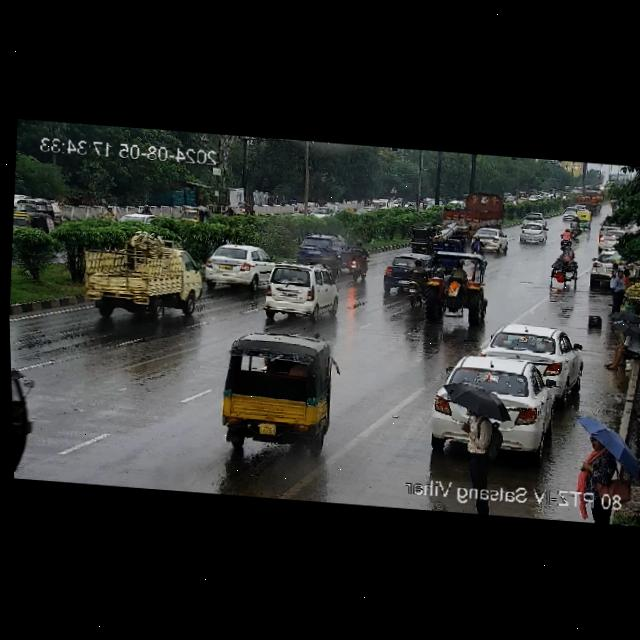car: (209, 329, 332, 451), (444, 354, 560, 422), (484, 321, 584, 384), (254, 257, 341, 321), (421, 249, 490, 322), (10, 353, 48, 479), (200, 240, 273, 292), (544, 240, 582, 289), (298, 230, 351, 262), (379, 247, 413, 293), (11, 206, 57, 235), (433, 224, 467, 253), (473, 226, 508, 251), (408, 221, 436, 252), (589, 250, 611, 286), (516, 222, 549, 244), (183, 202, 213, 223), (595, 228, 624, 248), (522, 210, 547, 224), (576, 208, 593, 228), (560, 205, 577, 220), (595, 222, 613, 236)
motorcycle: (404, 260, 429, 306), (345, 237, 371, 281), (469, 232, 485, 260), (559, 228, 574, 248), (569, 216, 579, 238)
person: (572, 432, 632, 521), (455, 410, 504, 488), (604, 267, 631, 312), (606, 259, 619, 285)
truck: (75, 240, 201, 323), (435, 187, 506, 232)
